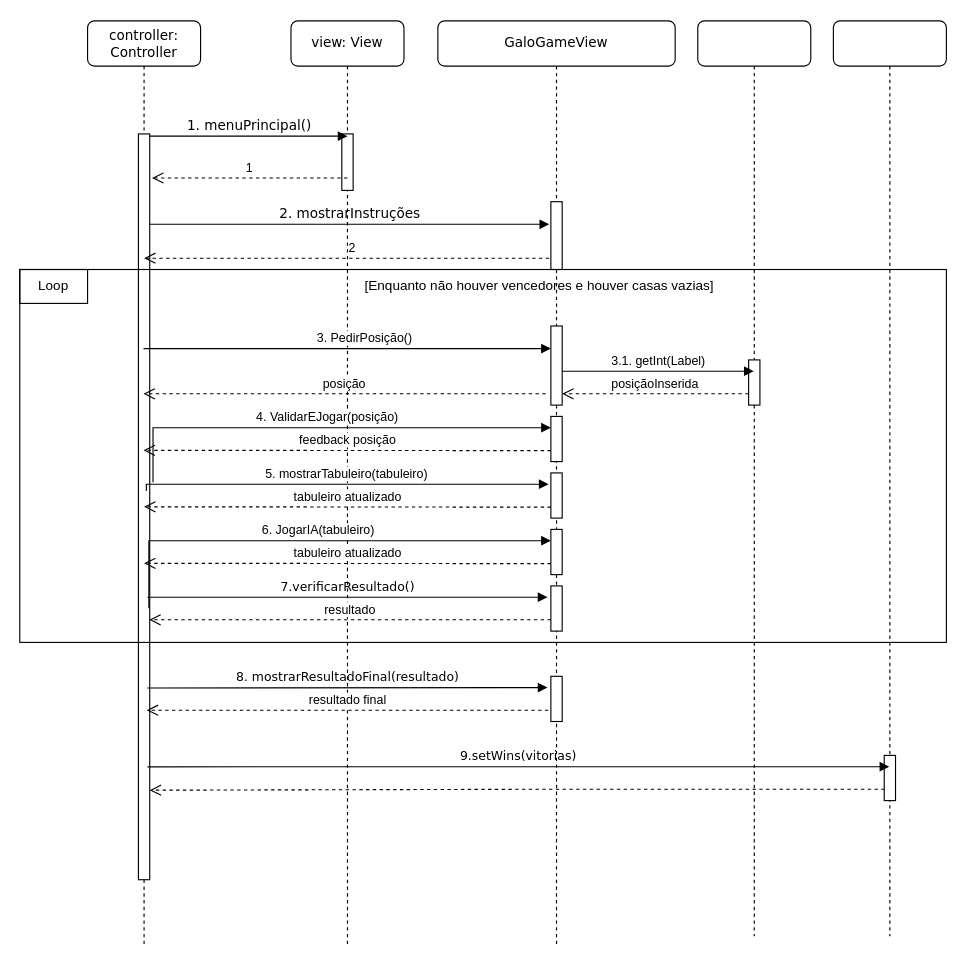
This 966x967 diagram has some shape labels left out. Each missing label, with the box of its shape:
: Utils (Verificação de Inputs): (697, 20, 811, 936)
loggedClient: (832, 20, 946, 936)
